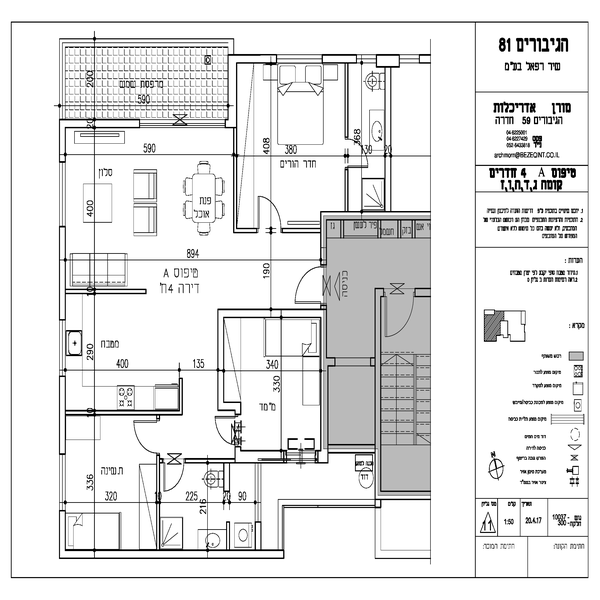door: (382, 294, 417, 344), (294, 264, 328, 307), (254, 191, 286, 236), (133, 418, 167, 454), (209, 415, 235, 456), (343, 139, 376, 169), (163, 463, 192, 496)
room: (56, 114, 237, 297), (229, 47, 355, 240), (51, 404, 174, 567), (222, 302, 337, 466), (144, 454, 292, 572), (58, 290, 185, 420), (323, 359, 383, 463), (398, 52, 420, 70)
wall: (59, 543, 283, 561), (382, 68, 398, 214), (216, 306, 325, 321), (223, 53, 241, 135), (227, 128, 241, 231), (65, 406, 185, 418), (337, 68, 357, 139), (214, 309, 228, 408), (57, 117, 141, 133), (320, 317, 329, 464), (65, 284, 147, 297), (230, 448, 286, 466), (57, 381, 69, 457), (57, 227, 66, 321), (52, 507, 67, 558), (320, 51, 356, 67), (373, 52, 400, 71), (341, 170, 352, 215), (172, 381, 189, 410), (283, 225, 313, 234)
window: (54, 157, 74, 229), (49, 322, 73, 375), (139, 118, 225, 132), (273, 53, 322, 70), (56, 453, 71, 504)
